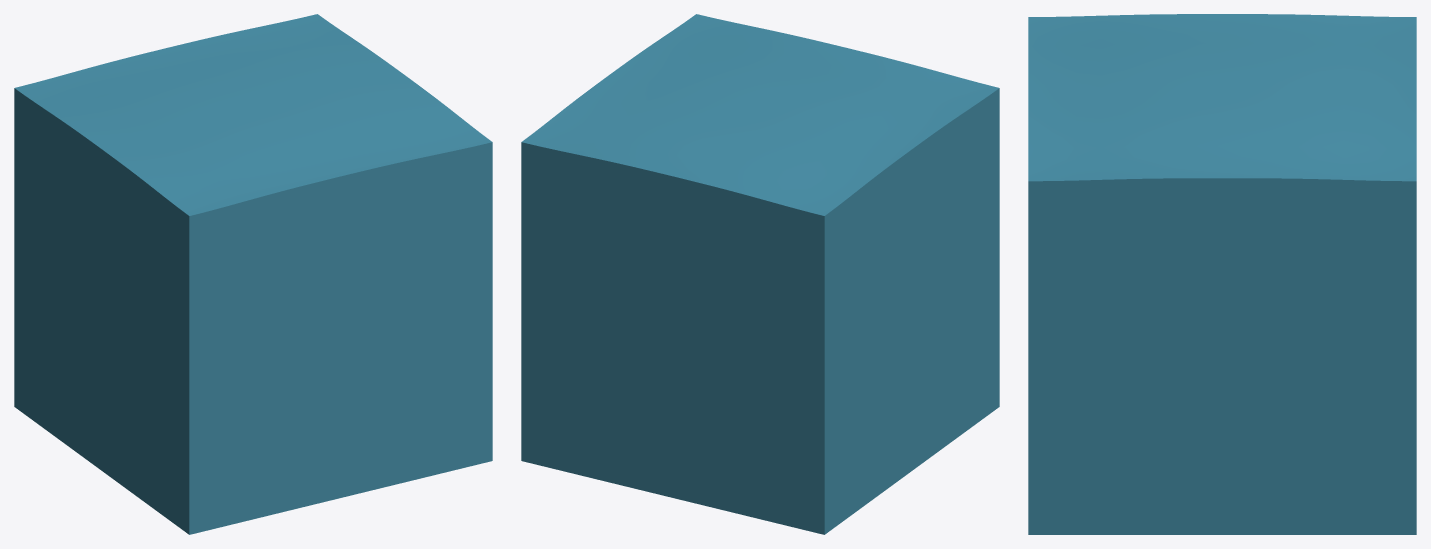
Rendered from slpool_wave62.glb.
The picture shows the model from 3 angles, left to right: view 1: azimuth 30°, elevation 25°; view 2: azimuth 150°, elevation 25°; view 3: azimuth 270°, elevation 25°; orthographic projection. The views are drawn at different scales.
Visible parts, largest first — view 1: poolWater; view 2: poolWater; view 3: poolWater.
Boxes of the visible parts, box(x1,y1,x2,y2) form: poolWater: box(14, 14, 492, 534); poolWater: box(521, 14, 999, 534); poolWater: box(1028, 14, 1416, 534).
Bounding box in the file's own units: 2 × 2.04 × 2.
